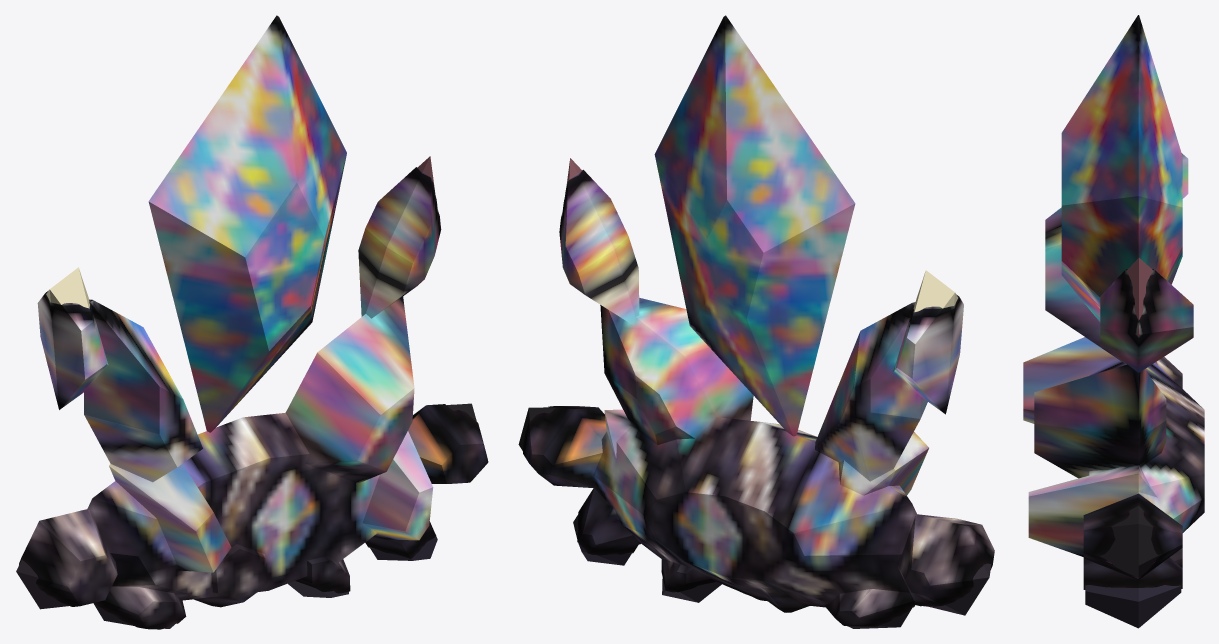
File: raw_opal.obj
3 views of the same model, side by side, from view 1: azimuth 30°, elevation 25°; view 2: azimuth 150°, elevation 25°; view 3: azimuth 270°, elevation 25° (orthographic). The views are drawn at different scales.
Visible parts, largest first — view 1: central_crystal, connected_matrix_core, right_crystal, left_crystal, upper_right_crystal, matrix_rock_0, lower_left_crystal, upper_left_crystal, lower_right_crystal, matrix_rock_5, matrix_rock_1, matrix_rock_2 (+4 smaller); view 2: central_crystal, connected_matrix_core, right_crystal, left_crystal, upper_right_crystal, matrix_rock_0, matrix_rock_5, upper_left_crystal, matrix_rock_4, matrix_rock_1, lower_left_crystal, matrix_rock_3 (+3 smaller); view 3: central_crystal, right_crystal, connected_matrix_core, upper_right_crystal, lower_right_crystal, matrix_rock_5, lower_left_crystal, left_crystal, matrix_rock_4_undercoat, matrix_rock_5_undercoat, matrix_rock_4, upper_right_crystal_undercoat (+2 smaller).
Part boxes in pixels (x1,y1,x2,y2): central_crystal: (148, 15, 346, 432); connected_matrix_core: (87, 412, 379, 600); right_crystal: (285, 296, 414, 483); left_crystal: (84, 299, 202, 482); upper_right_crystal: (358, 167, 441, 318); matrix_rock_0: (19, 509, 117, 606); lower_left_crystal: (109, 464, 231, 572); upper_left_crystal: (37, 290, 108, 409); lower_right_crystal: (362, 431, 433, 540); matrix_rock_5: (408, 404, 488, 483); matrix_rock_1: (94, 586, 186, 629); matrix_rock_2: (194, 544, 267, 607); central_crystal: (654, 15, 855, 436); connected_matrix_core: (593, 417, 917, 607); right_crystal: (600, 298, 753, 444); left_crystal: (815, 302, 927, 481); upper_right_crystal: (559, 169, 639, 326); matrix_rock_0: (896, 514, 994, 606); matrix_rock_5: (523, 406, 606, 487); upper_left_crystal: (893, 294, 963, 414); matrix_rock_4: (577, 488, 638, 555); matrix_rock_1: (824, 589, 915, 626); lower_left_crystal: (838, 432, 928, 495); matrix_rock_3: (661, 558, 715, 592); central_crystal: (1061, 15, 1182, 322); right_crystal: (1034, 364, 1166, 478); connected_matrix_core: (1089, 359, 1204, 532); upper_right_crystal: (1100, 269, 1193, 372); lower_right_crystal: (1028, 465, 1157, 556); matrix_rock_5: (1083, 493, 1182, 579); lower_left_crystal: (1023, 337, 1157, 423); left_crystal: (1045, 207, 1125, 363); matrix_rock_4_undercoat: (1085, 585, 1181, 628); matrix_rock_5_undercoat: (1100, 505, 1158, 578); matrix_rock_4: (1083, 557, 1182, 589); upper_right_crystal_undercoat: (1126, 258, 1152, 335).
Bounding box in the file's own units: 91 × 110 × 31.81.
Materials: 1 (1 with a texture image).
